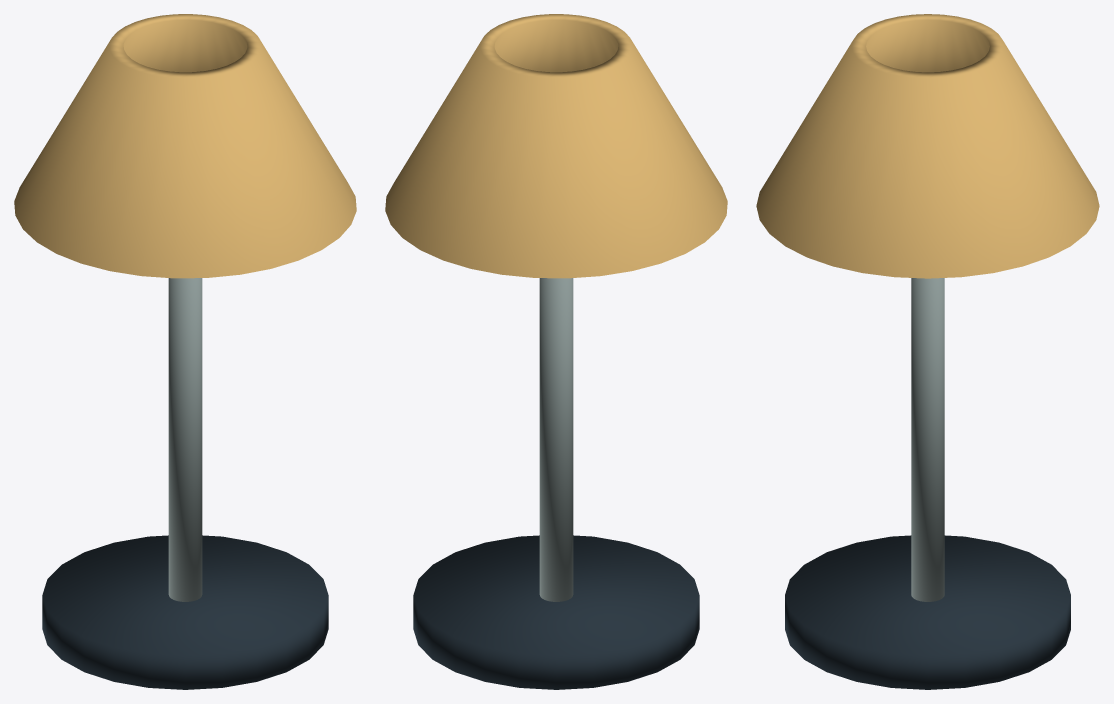
File: DeskLamp.fbx
3 renders of one model, left to right at view 1: azimuth 30°, elevation 25°; view 2: azimuth 150°, elevation 25°; view 3: azimuth 270°, elevation 25°, orthographic.
Visible parts, largest first — view 1: DeskLamp; view 2: DeskLamp; view 3: DeskLamp.
Boxes of the visible parts, x1,y1,x2,y2 form: DeskLamp: [14, 14, 356, 689]; DeskLamp: [385, 14, 727, 689]; DeskLamp: [756, 14, 1099, 689].
Size of the model in its own units: 0.72 by 1.35 by 0.72.
Materials: 1 (1 with a texture image).
